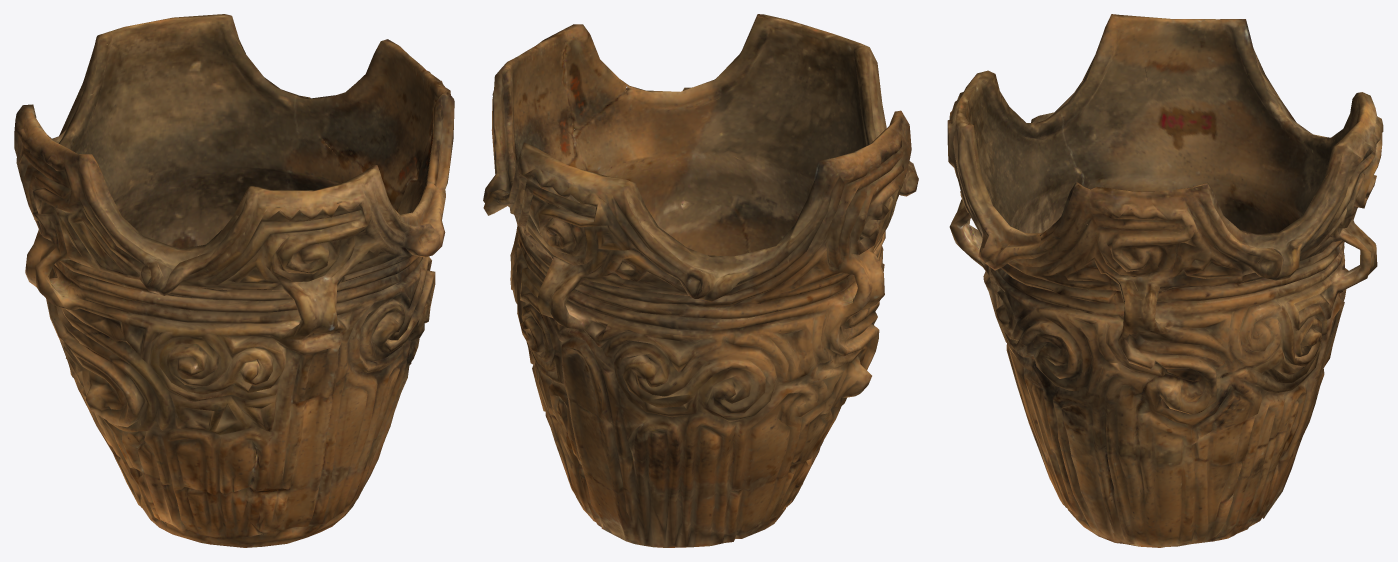
The picture shows the model from 3 angles, left to right: view 1: azimuth 30°, elevation 25°; view 2: azimuth 150°, elevation 25°; view 3: azimuth 270°, elevation 25°; orthographic projection. The views are drawn at different scales.
Parts seen in each view (by area): view 1: SK0001_low; view 2: SK0001_low; view 3: SK0001_low.
Part boxes in pixels (x1,y1,x2,y2): SK0001_low: (14,14,454,547); SK0001_low: (483,14,918,547); SK0001_low: (947,14,1383,547).
Size of the model in its own units: 267 by 278 by 271.
1 material, 1 textured.
